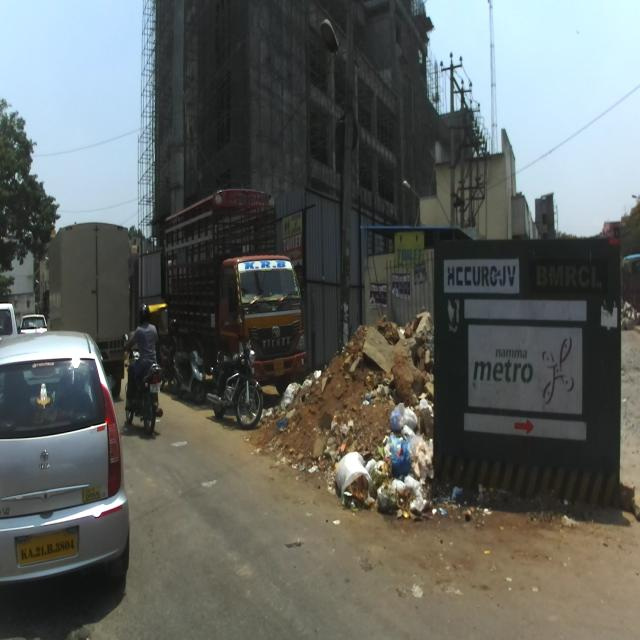car ahead at: (0, 322, 130, 614)
motorcycle ahead at: (207, 336, 262, 429), (122, 359, 166, 433)
stones ahead at: (336, 400, 435, 520)
